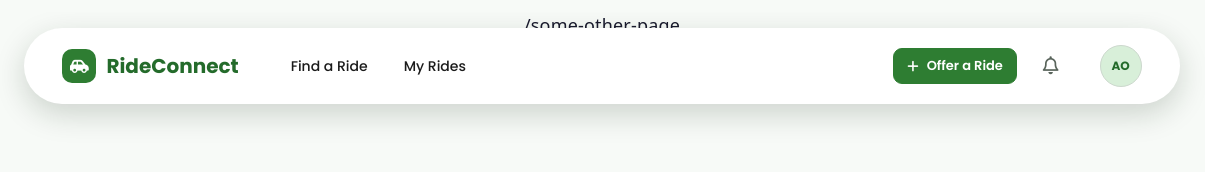
AppHeader › navigates to My Rides
Click the button "My Rides". click: coordinates (435, 66)
box: [388,45,482,87]
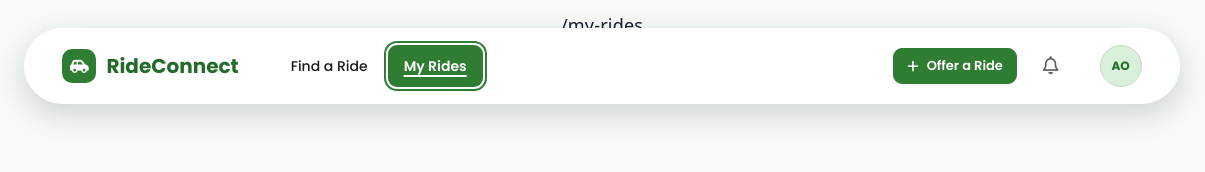
Now the text with test id "path" reads "/my-rides", box [561,13,643,37]
